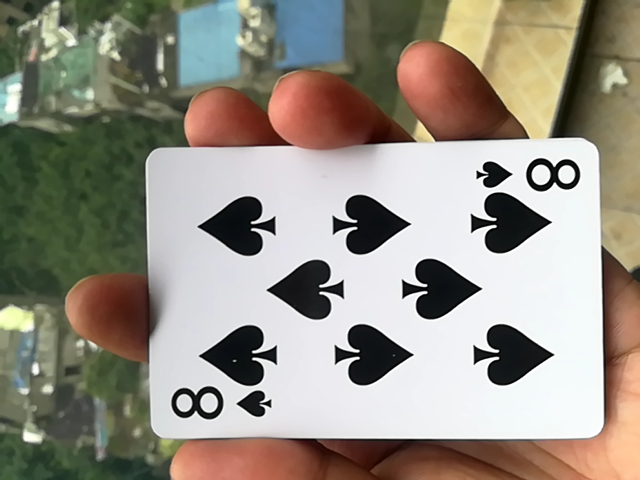ht 8: (127, 132, 584, 456)
